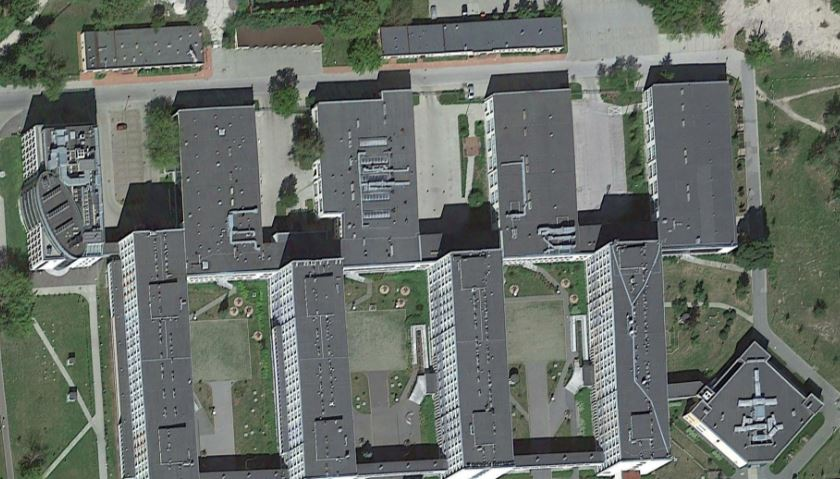block of flats: (109, 221, 208, 479), (581, 238, 680, 475), (421, 243, 515, 479), (163, 97, 281, 283), (304, 86, 422, 272), (477, 79, 595, 265), (635, 71, 753, 257), (268, 254, 361, 479), (18, 119, 114, 279)
garage: (375, 12, 569, 60), (75, 22, 208, 76)
